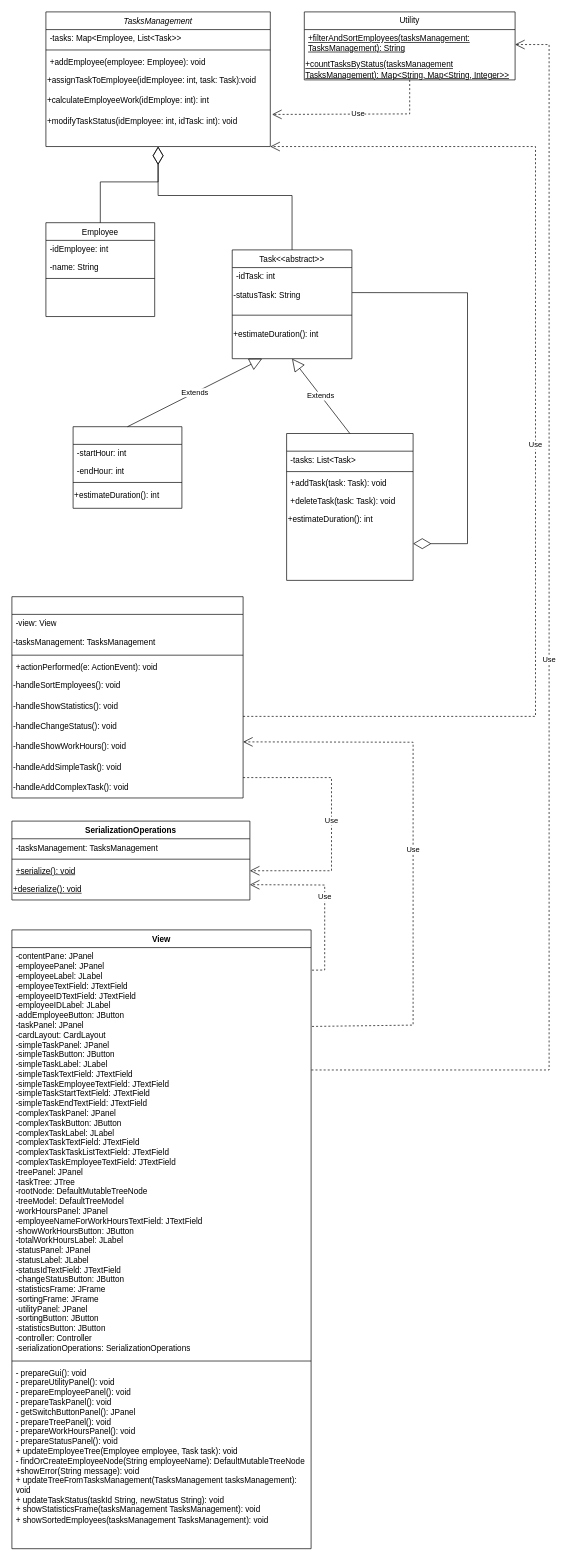
Some shapes in this 571 by 1563 pixel diagram are drawn without their labels. The box of each missing label's shape, as (x1, y1, x2, y2) in pixels:
ComplexTask: (286, 433, 413, 580)
Controller: (11, 596, 243, 798)
SimpleTask: (72, 426, 182, 508)
